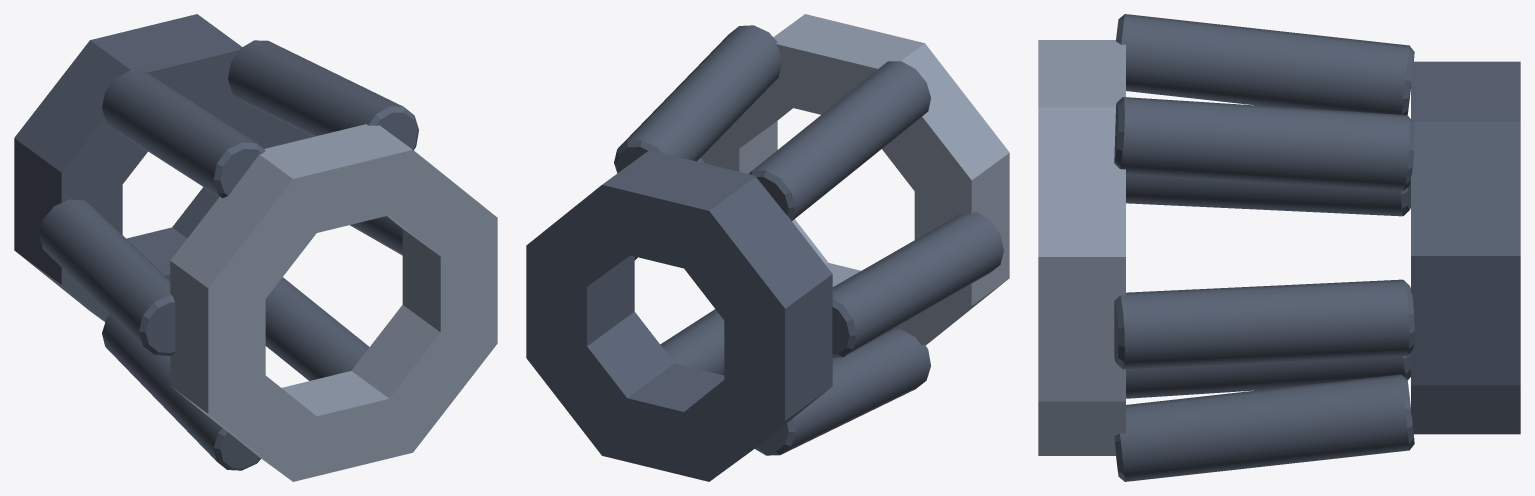
The model's file is Module_FlashHider_v003.fbx.
3 renders of one model, left to right at view 1: azimuth 30°, elevation 25°; view 2: azimuth 150°, elevation 25°; view 3: azimuth 270°, elevation 25°, orthographic. The views are drawn at different scales.
Visible parts, largest first — view 1: Module_FlashHider__RECEIVER_MESH; view 2: Module_FlashHider__RECEIVER_MESH; view 3: Module_FlashHider__RECEIVER_MESH.
Boxes of the visible parts, x1,y1,x2,y2 form: Module_FlashHider__RECEIVER_MESH: (14,14,497,481); Module_FlashHider__RECEIVER_MESH: (526,14,1009,481); Module_FlashHider__RECEIVER_MESH: (1038,14,1520,481).
Size of the model in its own units: 0.4284 by 0.3804 by 0.44.
